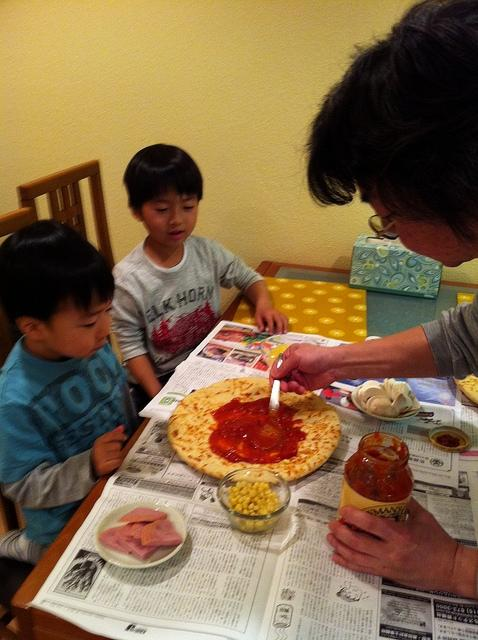corn: (248, 502, 256, 510), (250, 489, 256, 498), (239, 497, 246, 504), (254, 497, 260, 503), (257, 509, 261, 516), (258, 488, 263, 492), (258, 500, 260, 504)
